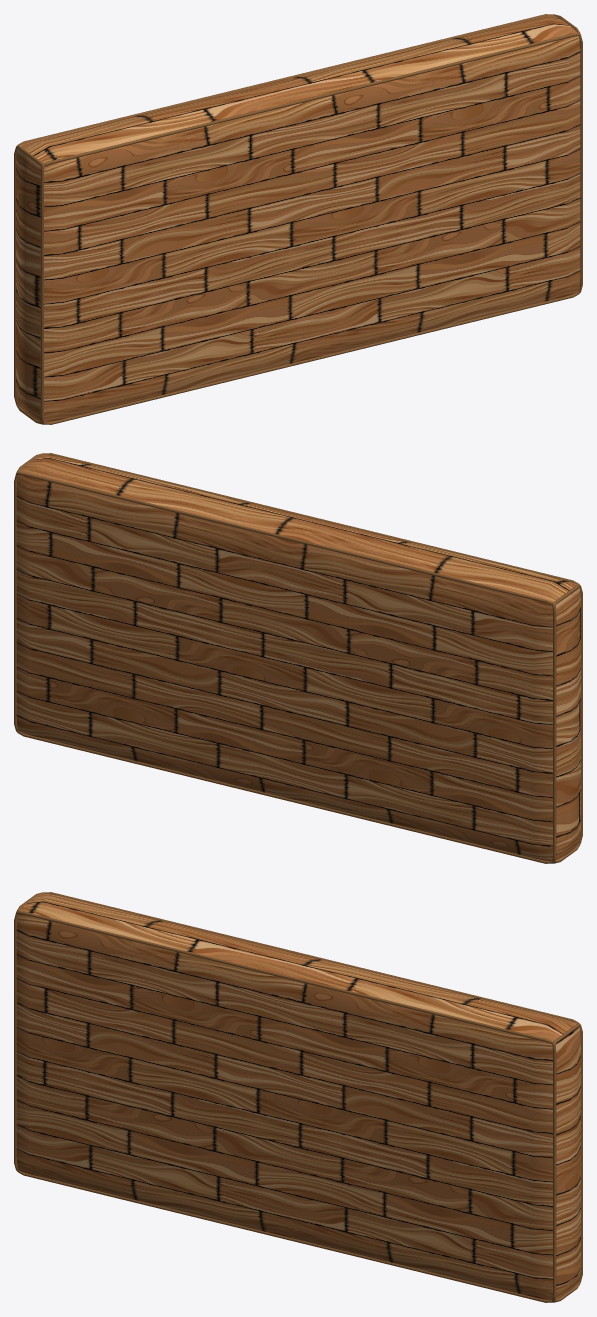
Rendered from SM_SoftFoam_Wall_20_1x2M.fbx.
3 views of the same model, one above another, from view 1: azimuth 30°, elevation 25°; view 2: azimuth 150°, elevation 25°; view 3: azimuth 330°, elevation 25° (orthographic).
Parts seen in each view (by area): view 1: SM_SoftFoam_Wall_20_1x2; view 2: SM_SoftFoam_Wall_20_1x2; view 3: SM_SoftFoam_Wall_20_1x2.
Boxes of the visible parts, x1,y1,x2,y2 form: SM_SoftFoam_Wall_20_1x2: (14,14,582,424); SM_SoftFoam_Wall_20_1x2: (14,453,582,863); SM_SoftFoam_Wall_20_1x2: (14,892,582,1302).
Bounding box in the file's own units: 190 × 90 × 20.
